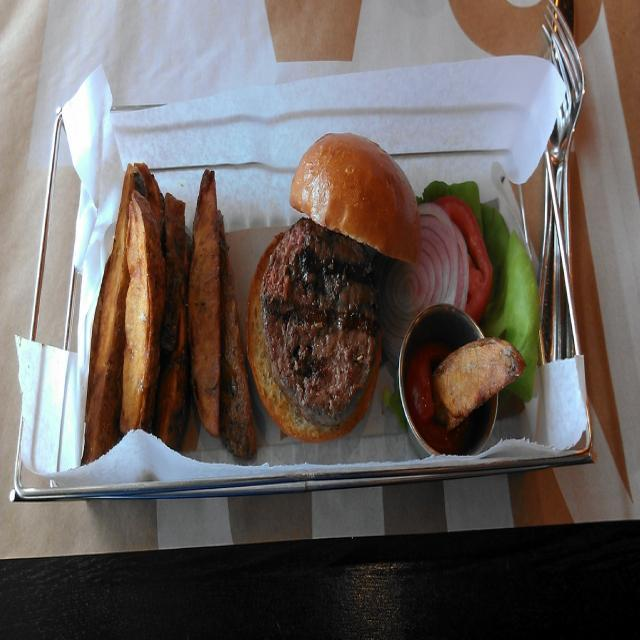Hamburger: (248, 133, 420, 450)
